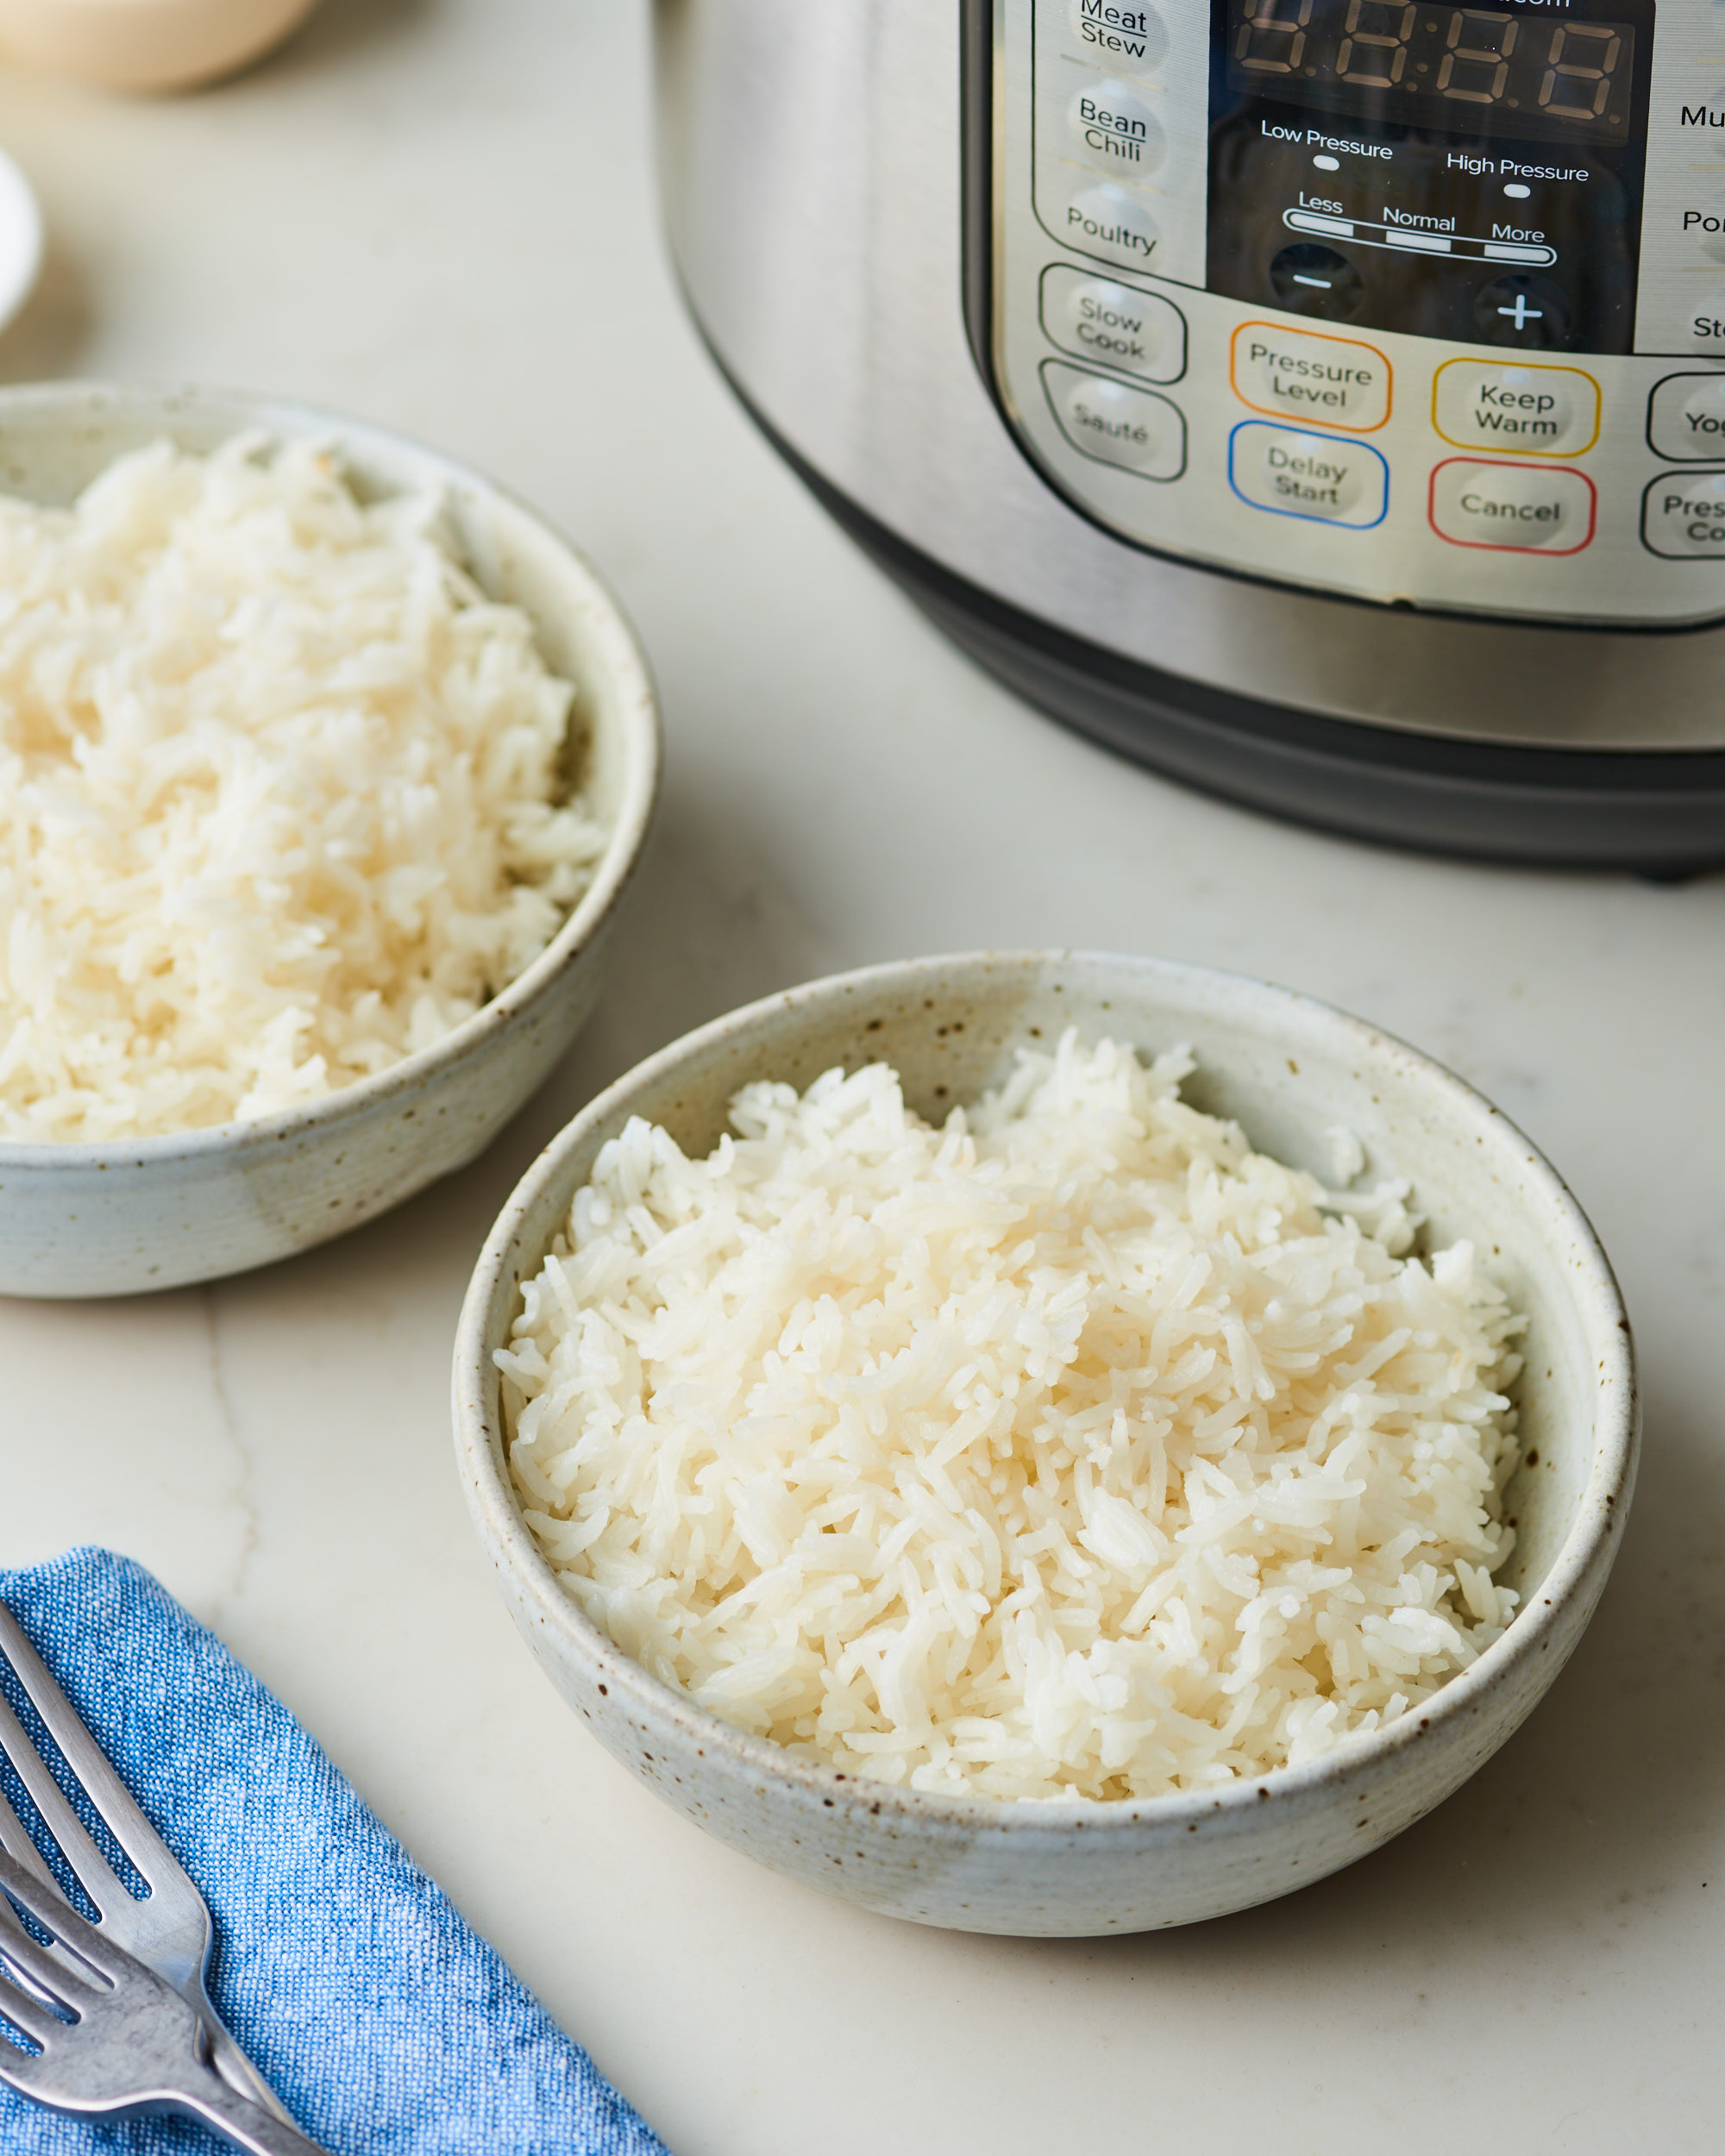rice: (514, 1091, 1523, 1735), (0, 452, 437, 1040)
